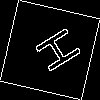H: (25, 25, 83, 80)
